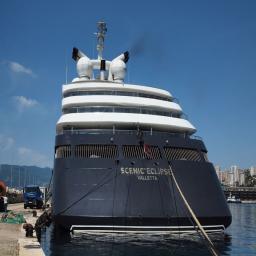cruises: (50, 18, 235, 234)
